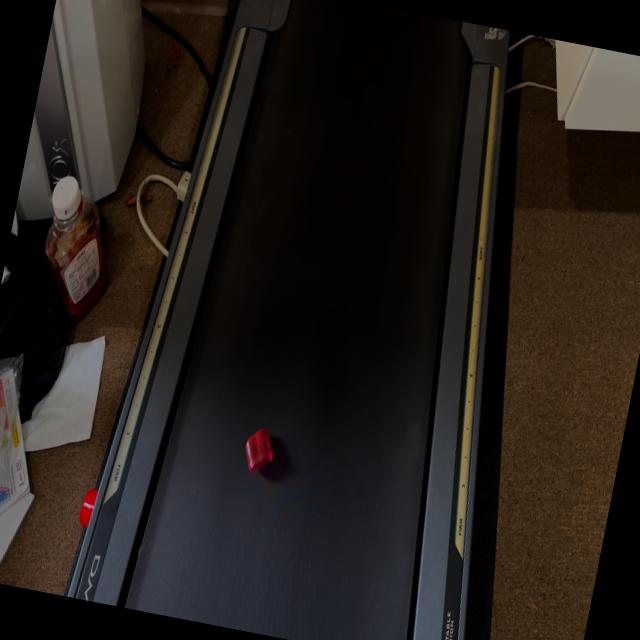Recycle: (242, 424, 280, 477)
